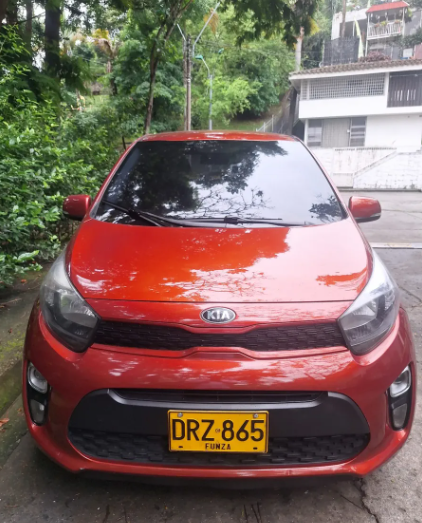placa: (166, 408, 269, 457)
